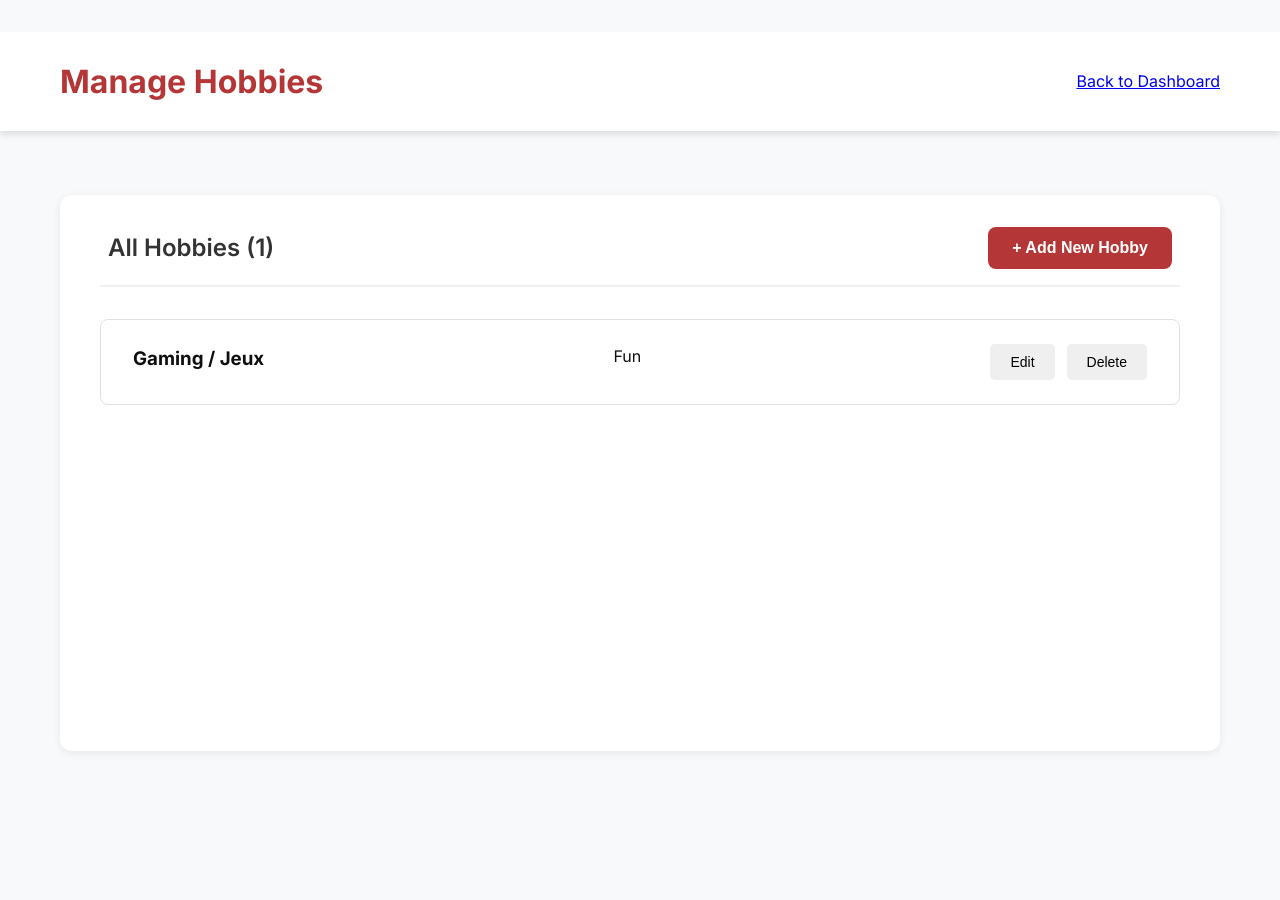
Test: AdminHobbies › handles delete error
The image size is (1280, 900).
Click the button "Delete" at [1107, 362], box [1066,344,1147,380]
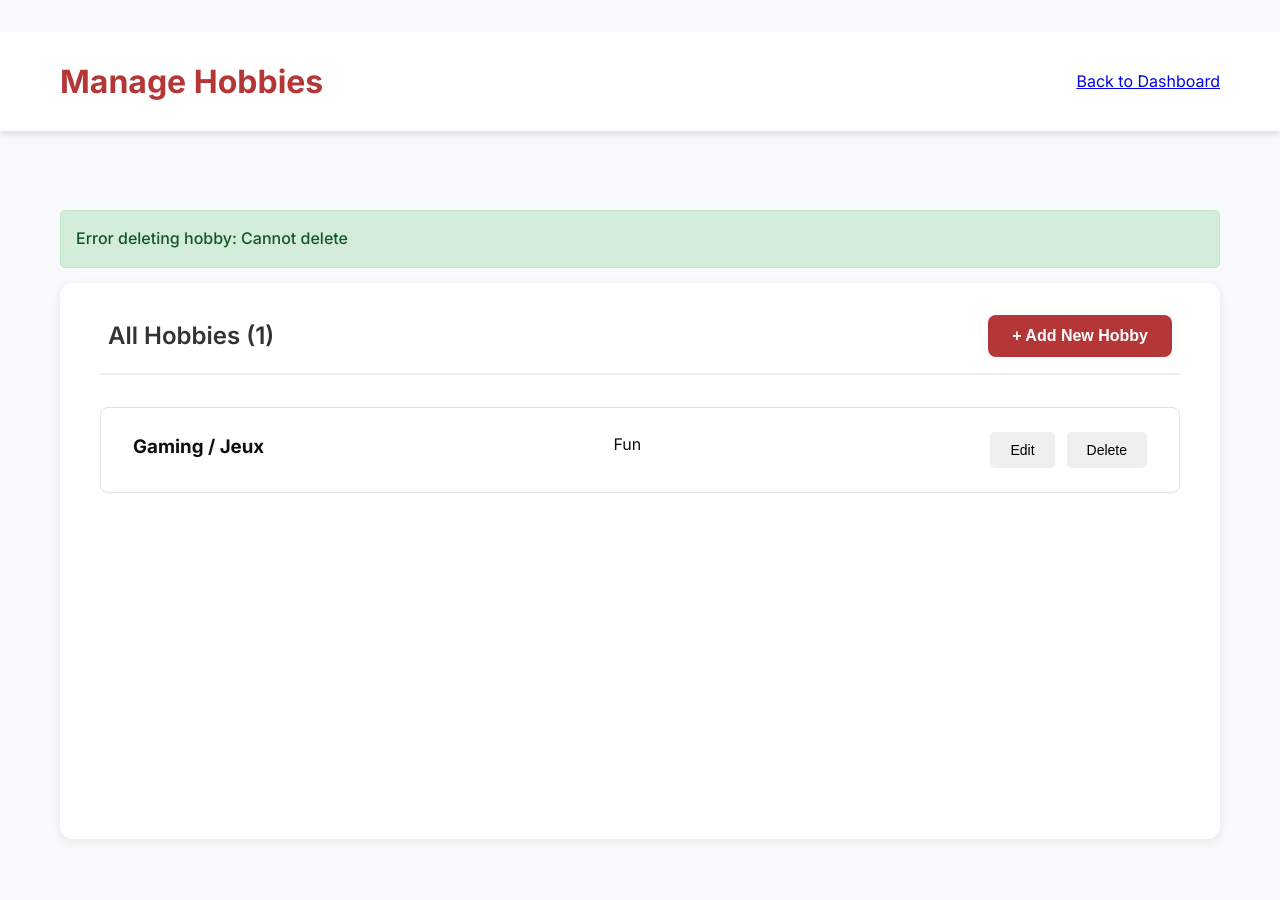
Check: the text "Error deleting hobby: Cannot delete" is shown, box [60,210,1220,268]
